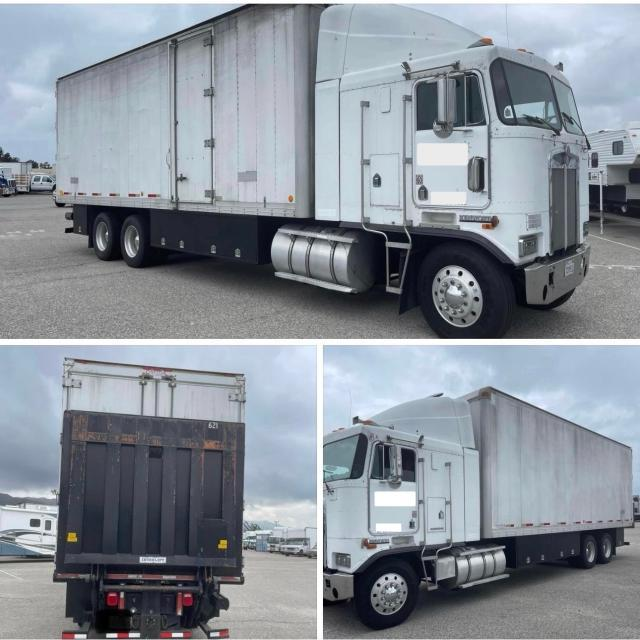traffic light: (53, 1, 593, 338), (322, 386, 634, 630), (52, 356, 246, 640)
